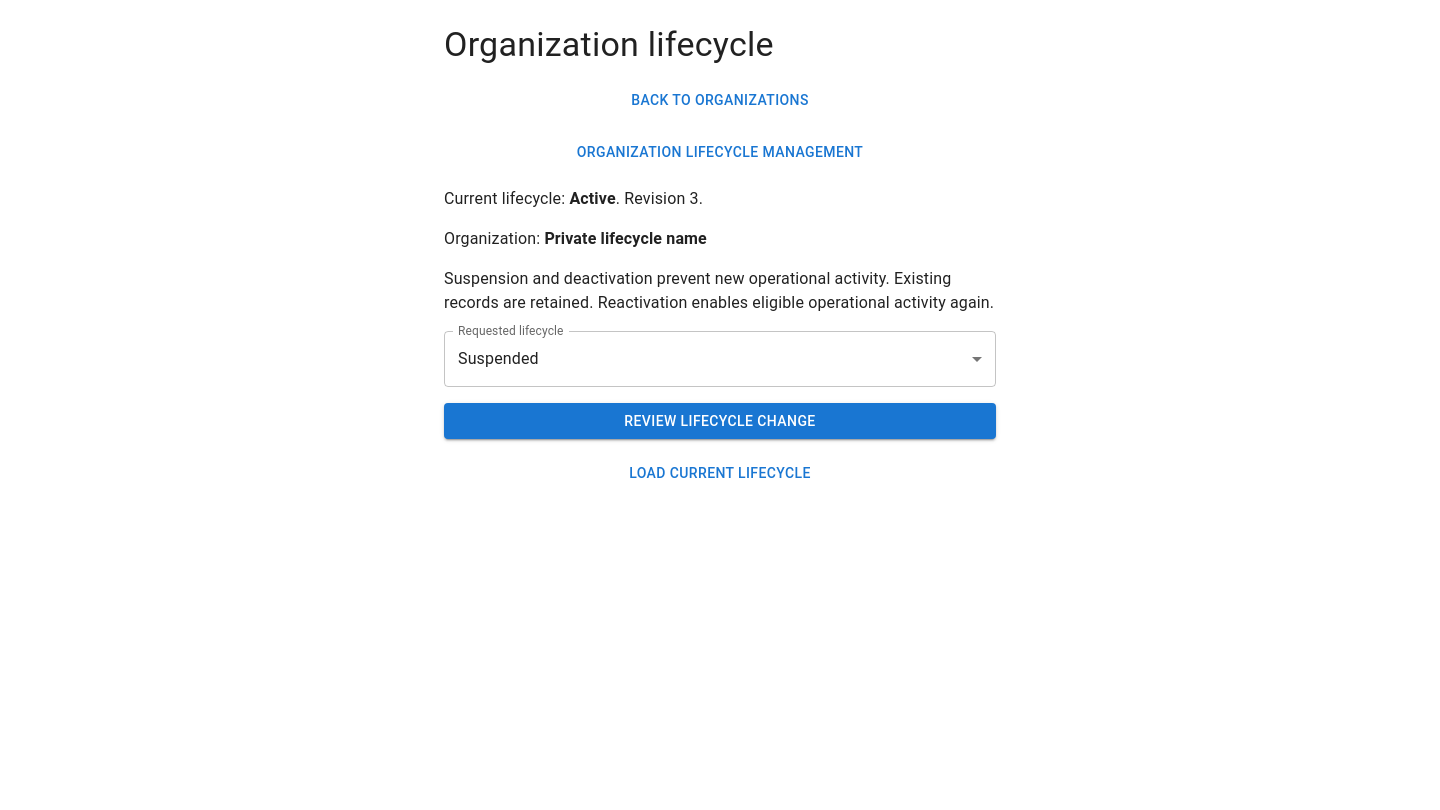
Test: observes lost acknowledgment and explicit identical original retry without private source fields
Click the button "Review lifecycle change" at (720, 421), box x1=444 y1=403 x2=996 y2=440
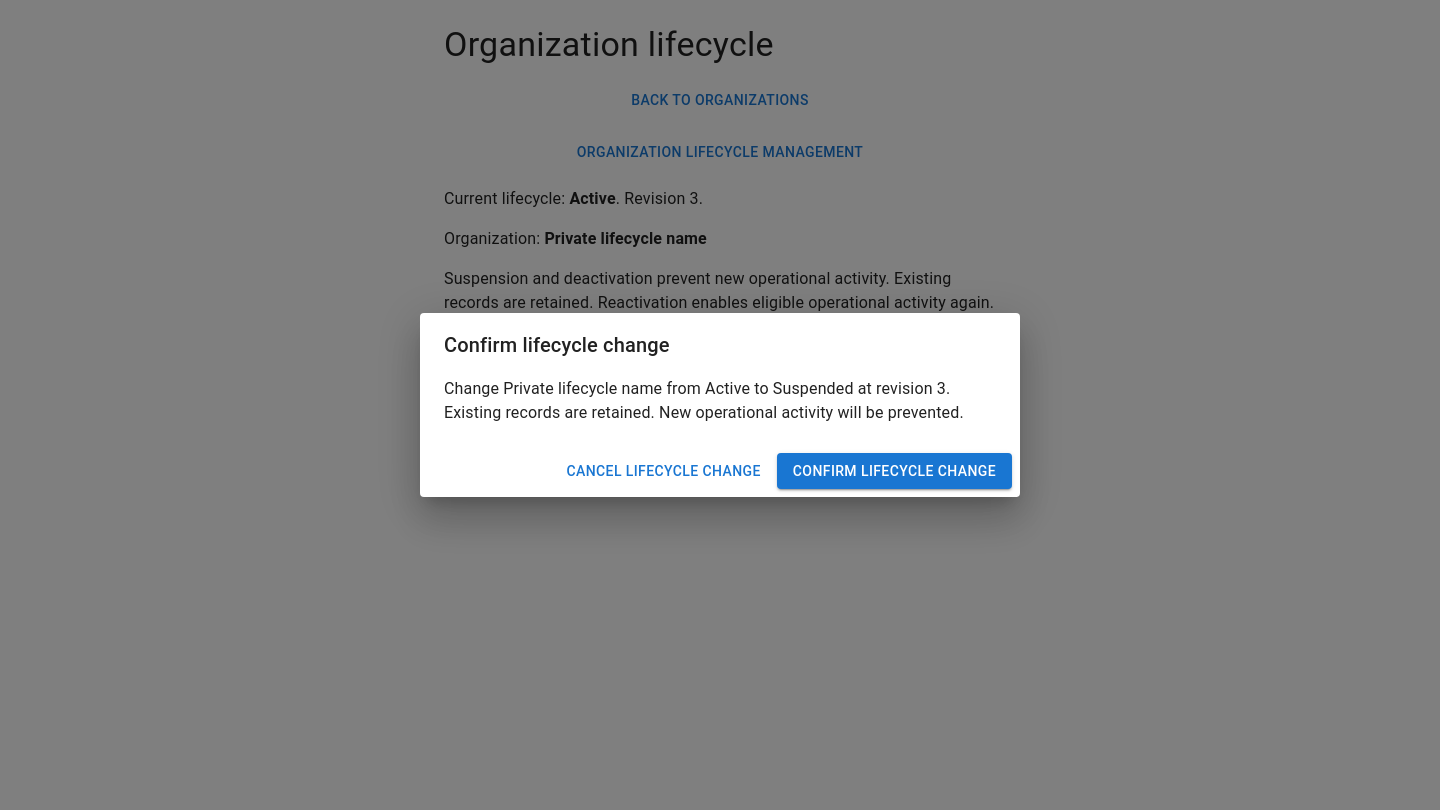
Click the button "Confirm lifecycle change" at (894, 471), box x1=777 y1=453 x2=1012 y2=489
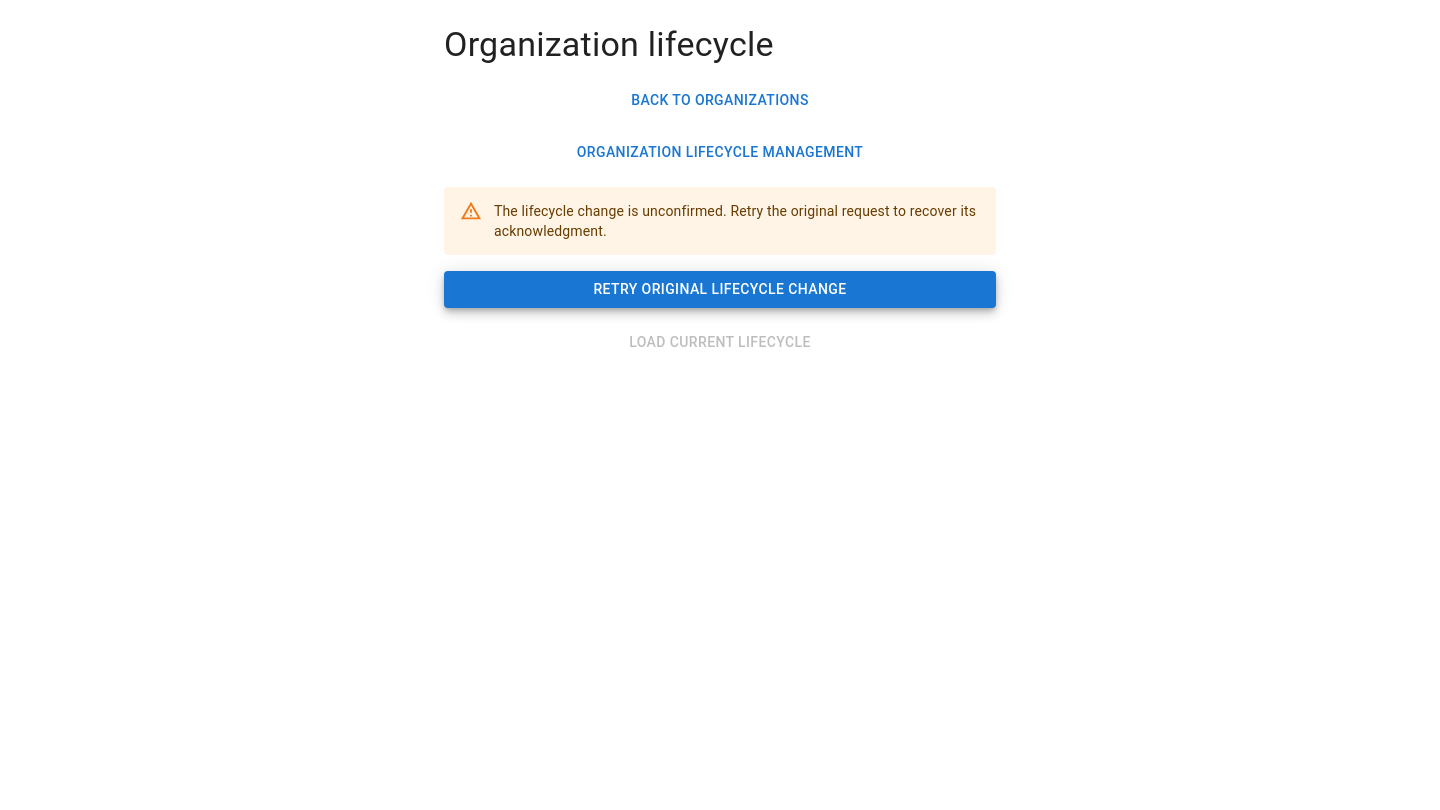
Check: the button "Retry original lifecycle change" is enabled
Click the button "Retry original lifecycle change" at (720, 289), box x1=444 y1=271 x2=996 y2=308
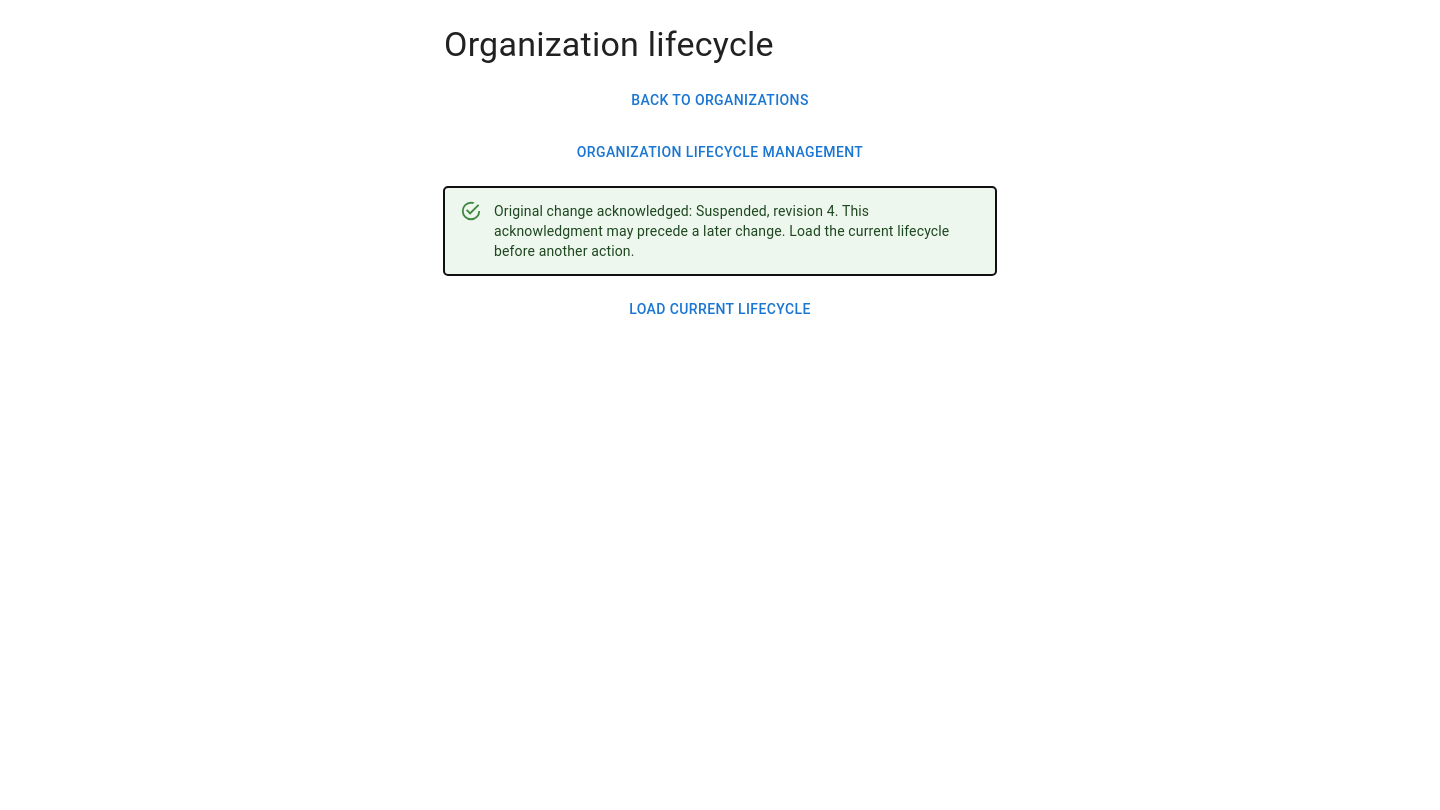
Check: the text "Original change acknowledged" is shown, box x1=494 y1=203 x2=696 y2=219
